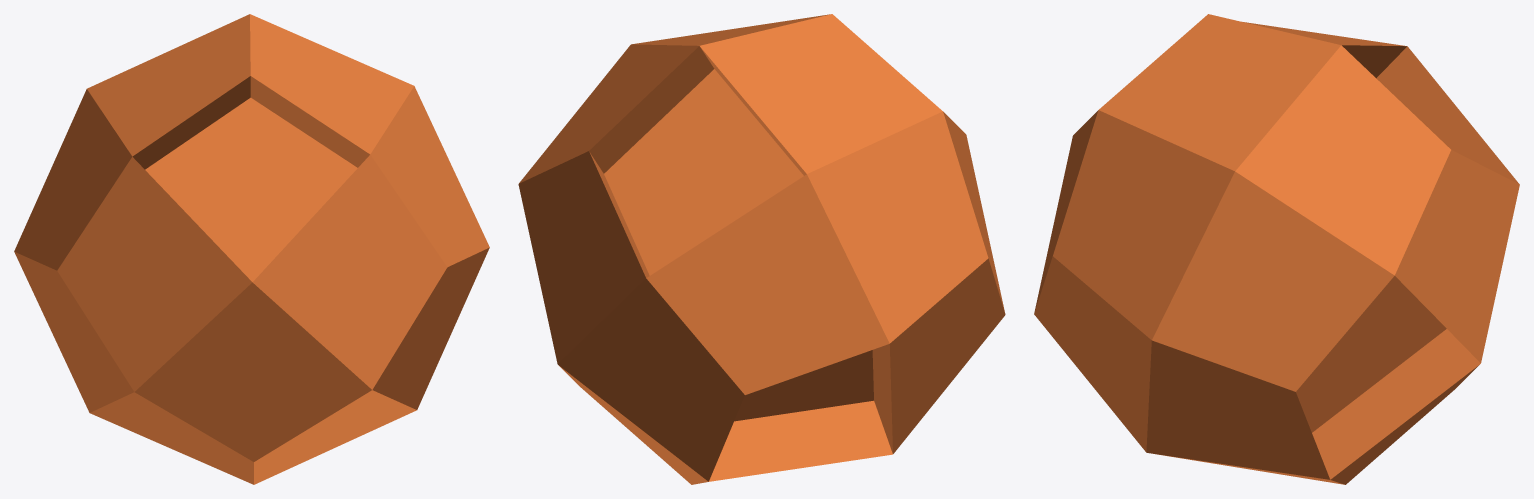
File: Asteroid.fbx
3 renders of one model, left to right at view 1: azimuth 30°, elevation 25°; view 2: azimuth 150°, elevation 25°; view 3: azimuth 270°, elevation 25°, orthographic. The views are drawn at different scales.
Visible parts, largest first — view 1: Asteroid; view 2: Asteroid; view 3: Asteroid.
Boxes of the visible parts, bbox=[...] form: Asteroid: bbox=[14, 14, 489, 484]; Asteroid: bbox=[518, 14, 1005, 484]; Asteroid: bbox=[1034, 14, 1519, 484].
Size of the model in its own units: 1285 by 1244 by 1251.
